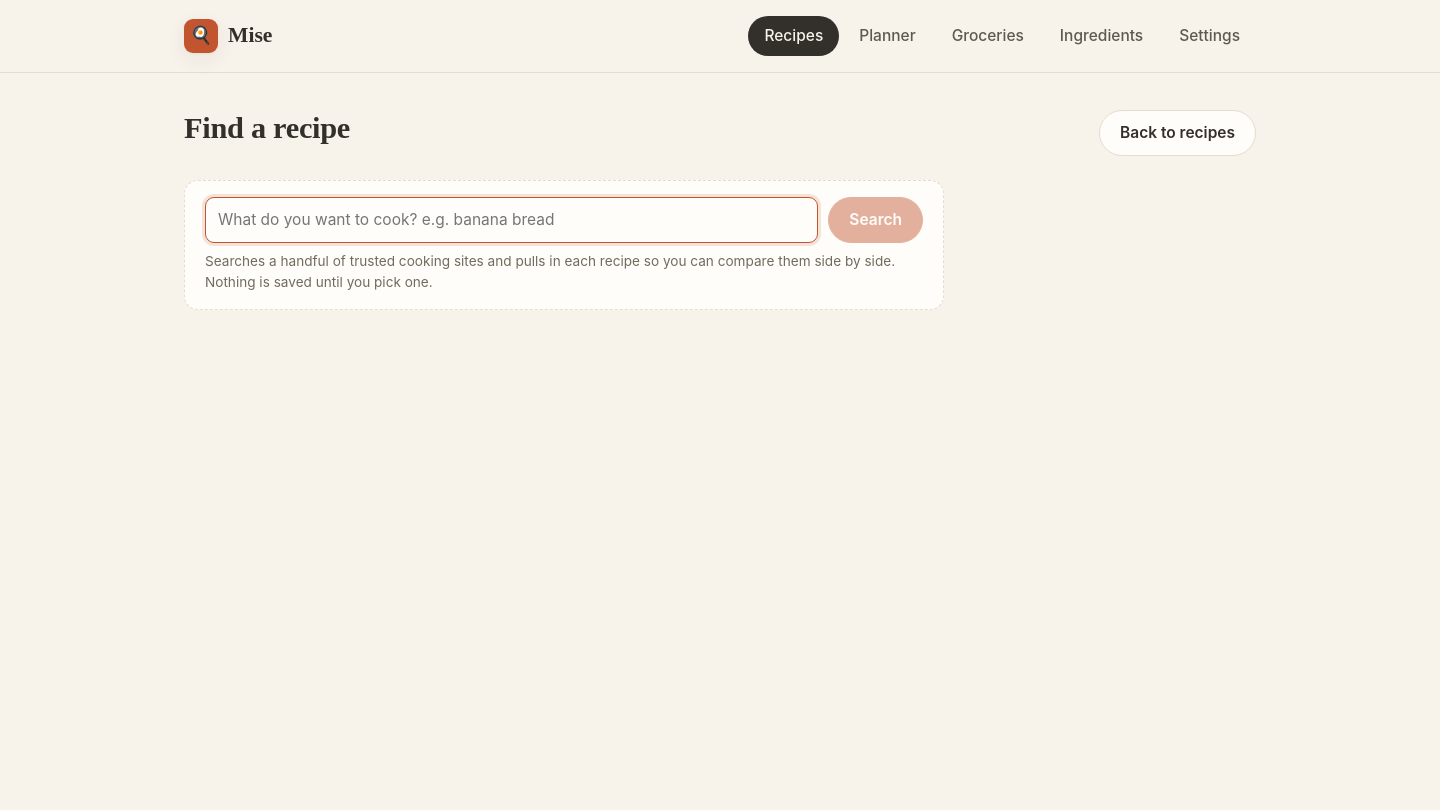
Test: RecipeSearchPage › shows the picked result when another tab is opened
In the field with placeholder "What do you want to cook? e.g. banana bread": {"x": 512, "y": 220} [205,197,818,243], type "banana bread"
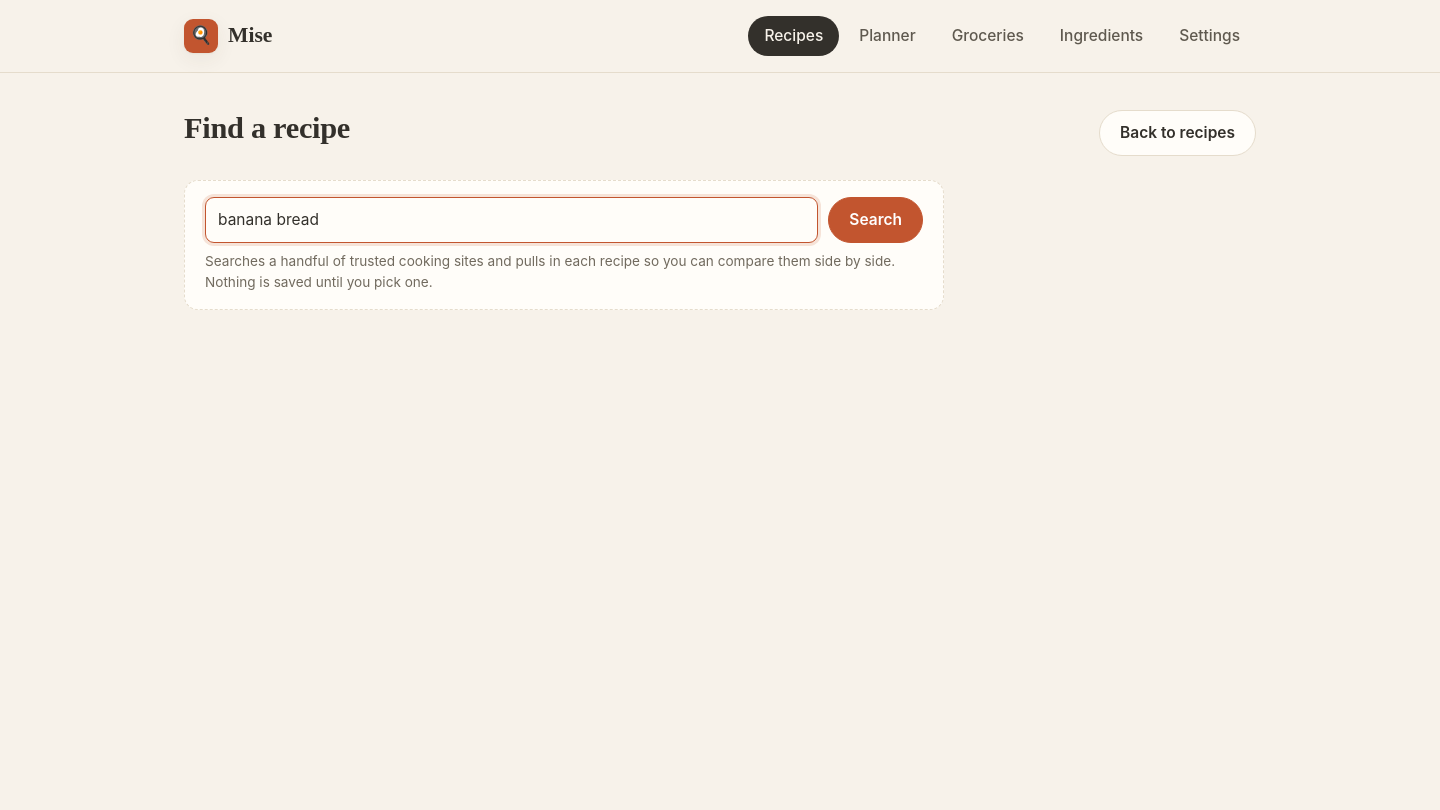
Click the button "Search": {"x": 876, "y": 220} [828,197,923,243]
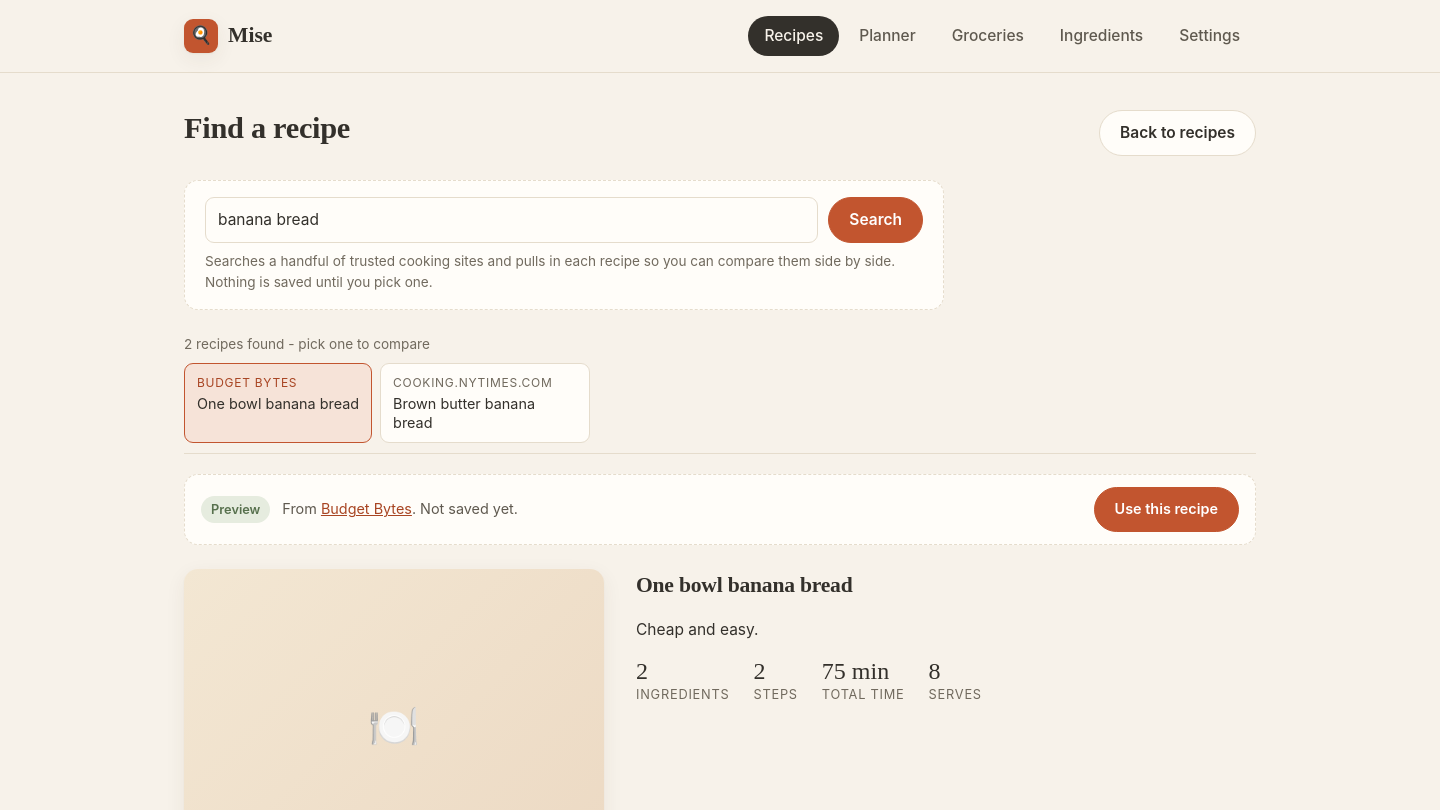
Click the tab "cooking.nytimes.com Brown butter banana bread": {"x": 485, "y": 403} [380,363,590,443]
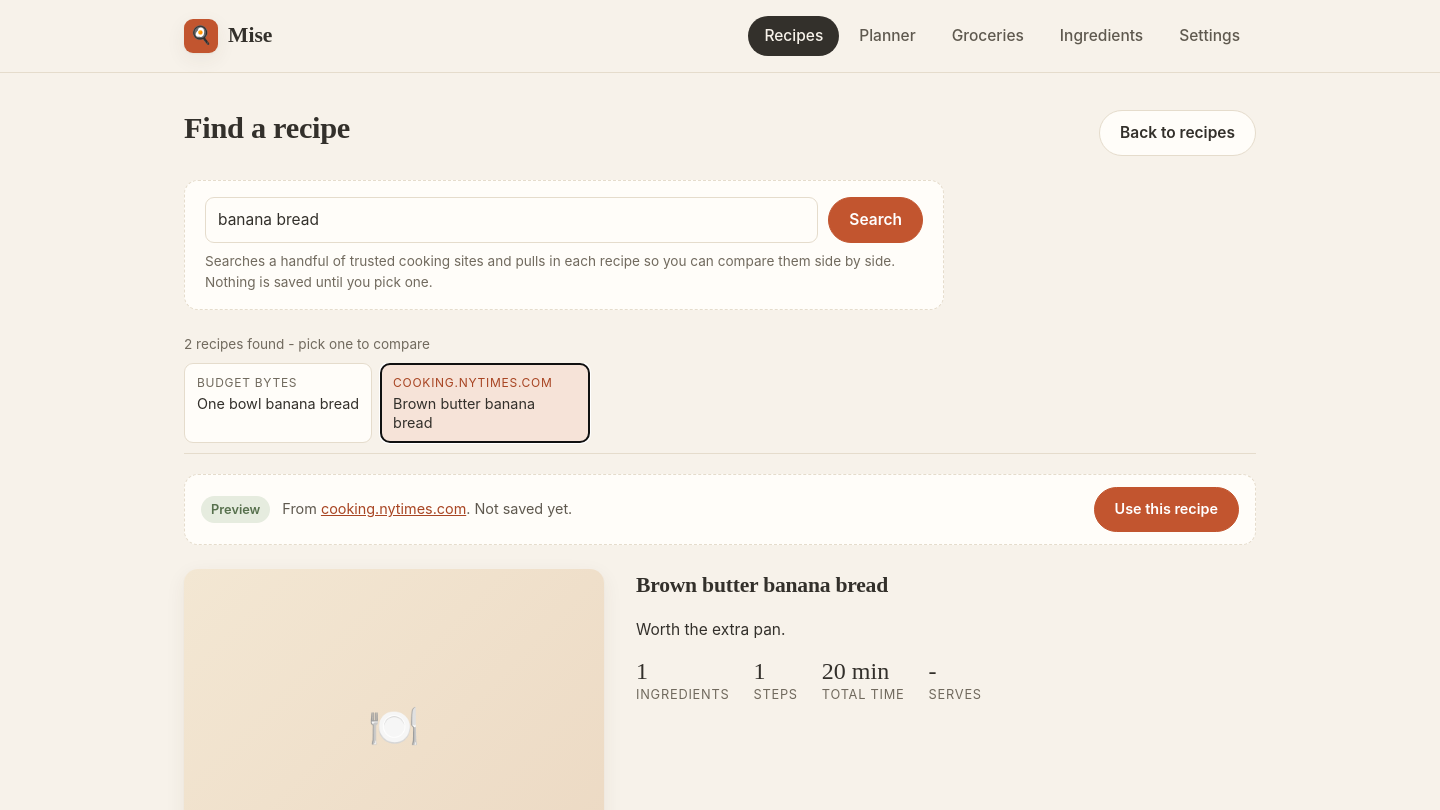
Expected: the heading "Brown butter banana bread" is shown, [636,573,888,597]
Expected: the text "Worth the extra pan." is shown, [636,620,786,639]
